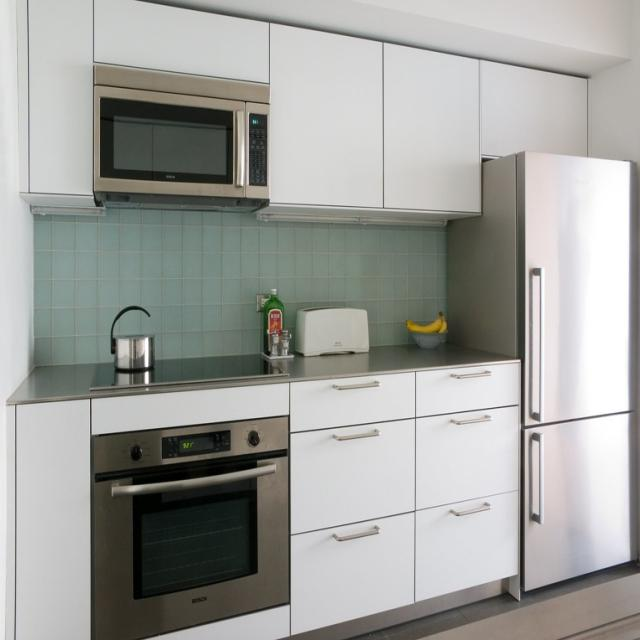E-waste: (492, 133, 640, 597), (86, 414, 322, 640), (83, 52, 284, 244)
Metal: (95, 312, 159, 382)
